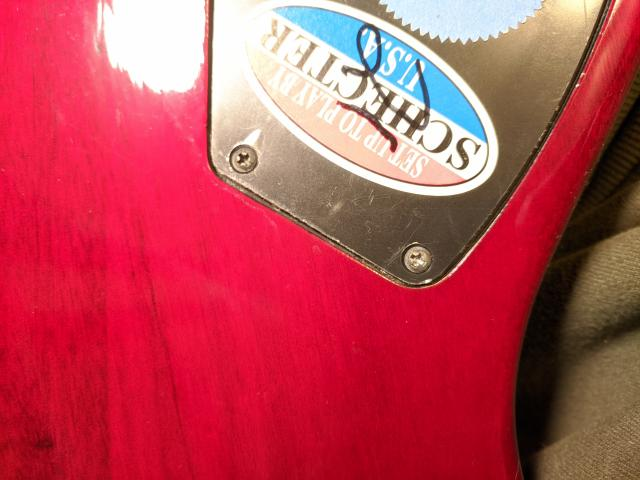CRS: (402, 244, 432, 275), (228, 144, 257, 175)
